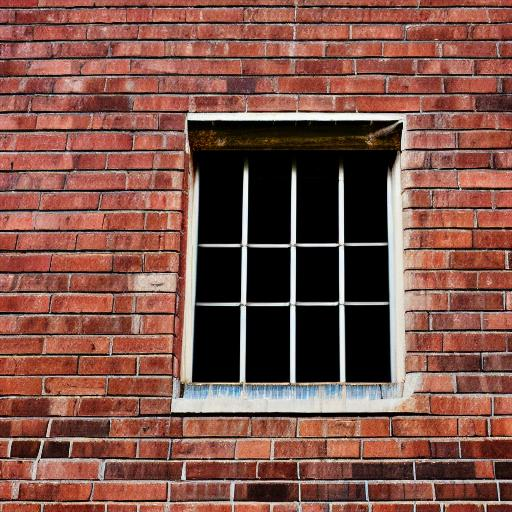Window: (168, 114, 411, 417)
